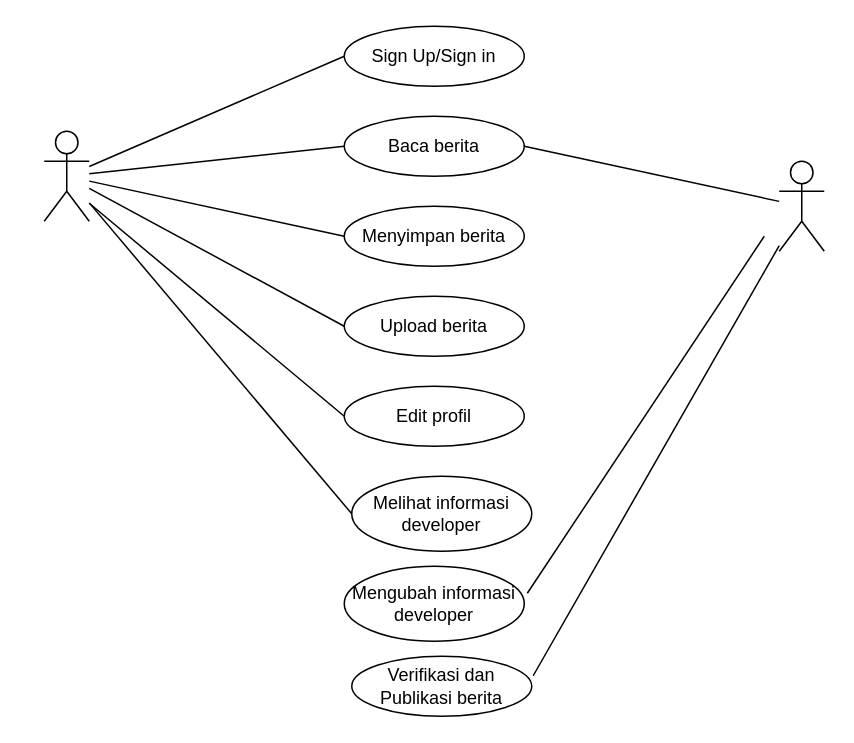
The diagram is 854 pixels wide and 743 high, and some of its shapes have lost their labels. Here are the shapes that lost their labels. From the top down, the centre of each, then its label:
(66,175): Pengguna
(801,205): Admin
